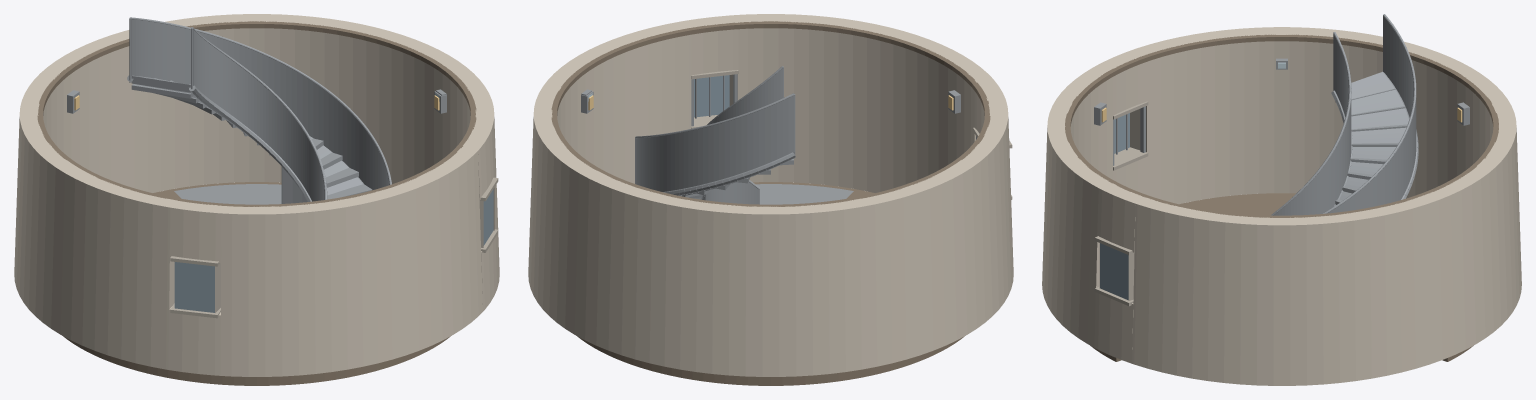
File: SM_Shell_F3.fbx
3 views of the same model, side by side, from view 1: azimuth 30°, elevation 25°; view 2: azimuth 150°, elevation 25°; view 3: azimuth 270°, elevation 25° (orthographic).
Parts seen in each view (by area): view 1: SM_Safety_F3_F4_Outer, SM_Safety_F3_F4_Inner, SM_Trim_F3_Ceiling, SM_Floor_F3, SM_Wall_F3_7_0, SM_Wall_F3_6_0, SM_Wall_F3_8_0, SM_Wall_F3_4_0, SM_Wall_F3_5_0, SM_Wall_F3_3_0, SM_Wall_F3_2_0, SM_Wall_F3_1_0 (+77 smaller); view 2: SM_Safety_F3_F4_Outer, SM_Trim_F3_Ceiling, SM_Floor_F3, SM_Wall_F3_39_0, SM_Wall_F3_40_0, SM_Wall_F3_38_0, SM_Wall_F3_42_0, SM_Wall_F3_36_0, SM_Wall_F3_37_0, SM_Wall_F3_41_0, SM_Wall_F3_43_0, SM_Wall_F3_35_0 (+71 smaller); view 3: SM_Trim_F3_Ceiling, SM_Safety_F3_F4_Outer, SM_Stair_F3_F4_Ramp, SM_Safety_F3_F4_Inner, SM_Wall_F3_69_0, SM_Wall_F3_67_0, SM_Wall_F3_71_0, SM_Wall_F3_68_0, SM_Wall_F3_70_0, SM_Wall_F3_66_0, SM_Wall_F3_72_0, SM_Wall_F3_65_0 (+76 smaller).
Part boxes in pixels (x1,y1,x2,y2): SM_Safety_F3_F4_Outer: (131, 19, 389, 190); SM_Safety_F3_F4_Inner: (193, 29, 324, 201); SM_Trim_F3_Ceiling: (37, 21, 476, 206); SM_Floor_F3: (63, 182, 450, 385); SM_Wall_F3_7_0: (248, 206, 265, 376); SM_Wall_F3_6_0: (264, 206, 282, 376); SM_Wall_F3_8_0: (231, 206, 249, 376); SM_Wall_F3_4_0: (295, 204, 315, 375); SM_Wall_F3_5_0: (280, 205, 298, 376); SM_Wall_F3_3_0: (310, 202, 331, 373); SM_Wall_F3_2_0: (325, 200, 347, 371); SM_Wall_F3_1_0: (339, 197, 363, 369); SM_Safety_F3_F4_Outer: (635, 95, 794, 191); SM_Trim_F3_Ceiling: (551, 21, 990, 206); SM_Floor_F3: (577, 182, 964, 385); SM_Wall_F3_39_0: (762, 206, 779, 376); SM_Wall_F3_40_0: (745, 206, 763, 376); SM_Wall_F3_38_0: (778, 206, 796, 376); SM_Wall_F3_42_0: (712, 204, 732, 375); SM_Wall_F3_36_0: (809, 204, 829, 375); SM_Wall_F3_37_0: (794, 205, 812, 376); SM_Wall_F3_41_0: (729, 205, 747, 376); SM_Wall_F3_43_0: (696, 202, 717, 373); SM_Wall_F3_35_0: (824, 202, 845, 373); SM_Trim_F3_Ceiling: (1065, 34, 1498, 217); SM_Safety_F3_F4_Outer: (1327, 16, 1416, 213); SM_Stair_F3_F4_Ramp: (1339, 71, 1408, 200); SM_Safety_F3_F4_Inner: (1273, 34, 1351, 215); SM_Wall_F3_69_0: (1273, 218, 1290, 385); SM_Wall_F3_67_0: (1305, 216, 1323, 385); SM_Wall_F3_71_0: (1240, 216, 1259, 385); SM_Wall_F3_68_0: (1289, 217, 1306, 385); SM_Wall_F3_70_0: (1257, 217, 1274, 385); SM_Wall_F3_66_0: (1319, 215, 1339, 384); SM_Wall_F3_72_0: (1224, 215, 1243, 384); SM_Wall_F3_65_0: (1335, 213, 1355, 382).
Size of what is drawn, in the model's own units: 810 by 472 by 810.
